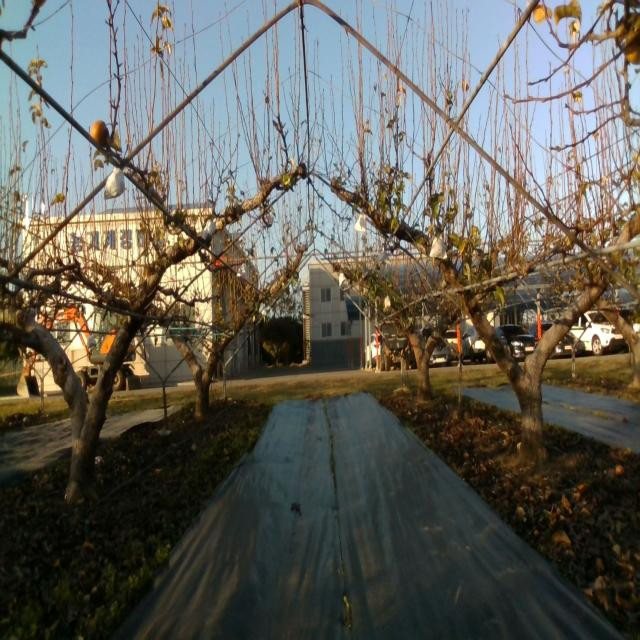pearbags: (104, 166, 130, 201), (430, 236, 448, 259), (201, 218, 216, 244), (354, 214, 366, 232)
